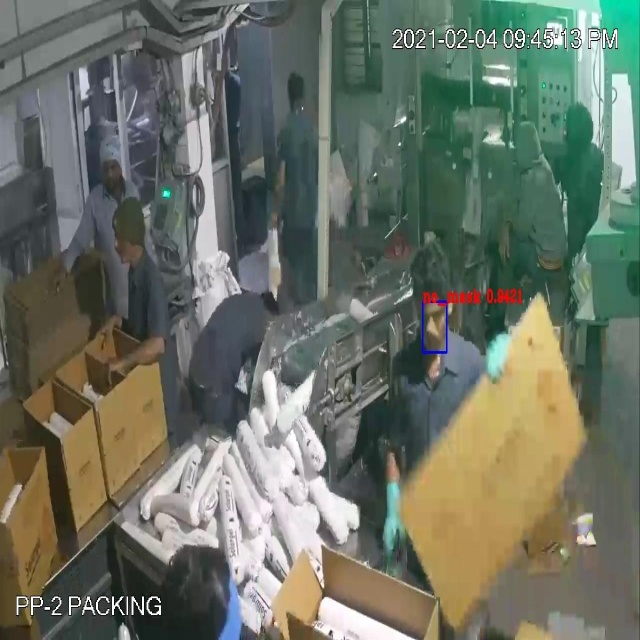Guantes: (368, 450, 421, 576)
Sin_guantes: (36, 240, 108, 300), (96, 337, 178, 380), (85, 300, 137, 344), (270, 159, 292, 248)
